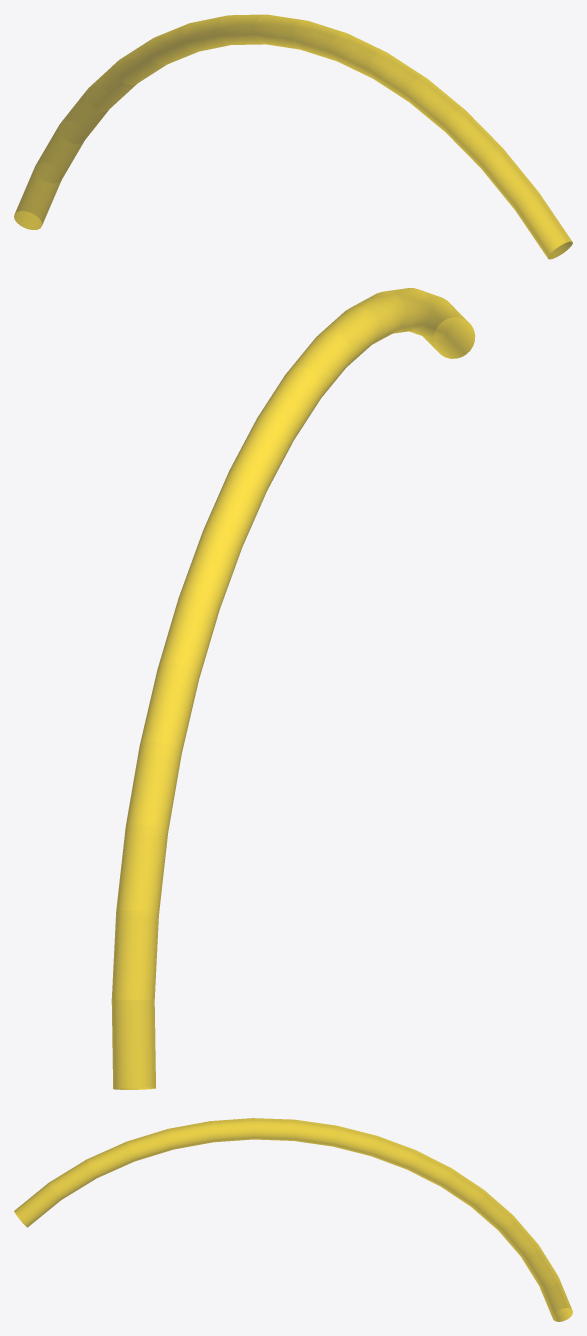
File: Event_75125125_track_69.fbx
The picture shows the model from 3 angles, top to bottom: view 1: azimuth 30°, elevation 25°; view 2: azimuth 150°, elevation 25°; view 3: azimuth 270°, elevation 25°; orthographic projection. The views are drawn at different scales.
Visible parts, largest first — view 1: Model; view 2: Model; view 3: Model.
Part boxes in pixels (left/top/right/bottom): Model: left=14, top=14, right=572, bottom=259; Model: left=111, top=288, right=475, bottom=1089; Model: left=14, top=1118, right=572, bottom=1321.
Bounding box in the file's own units: 0.278 × 0.4812 × 1.04.
